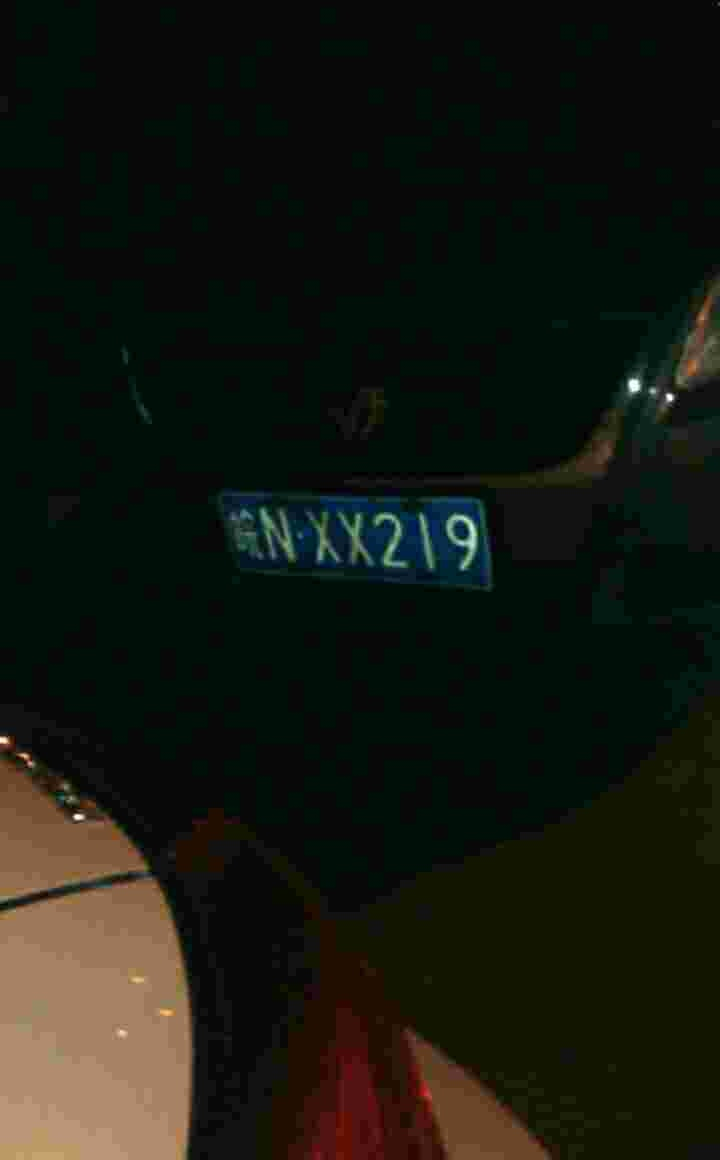license_plate: (226, 492, 503, 571)
